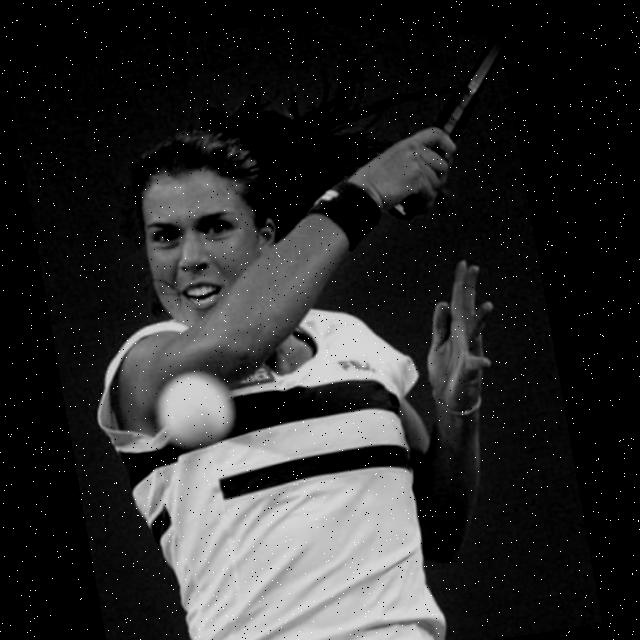face: (107, 117, 305, 359)
